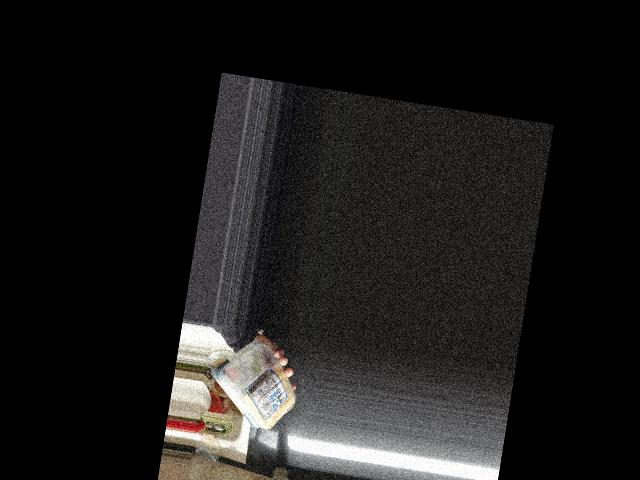cheese: (216, 336, 298, 433)
